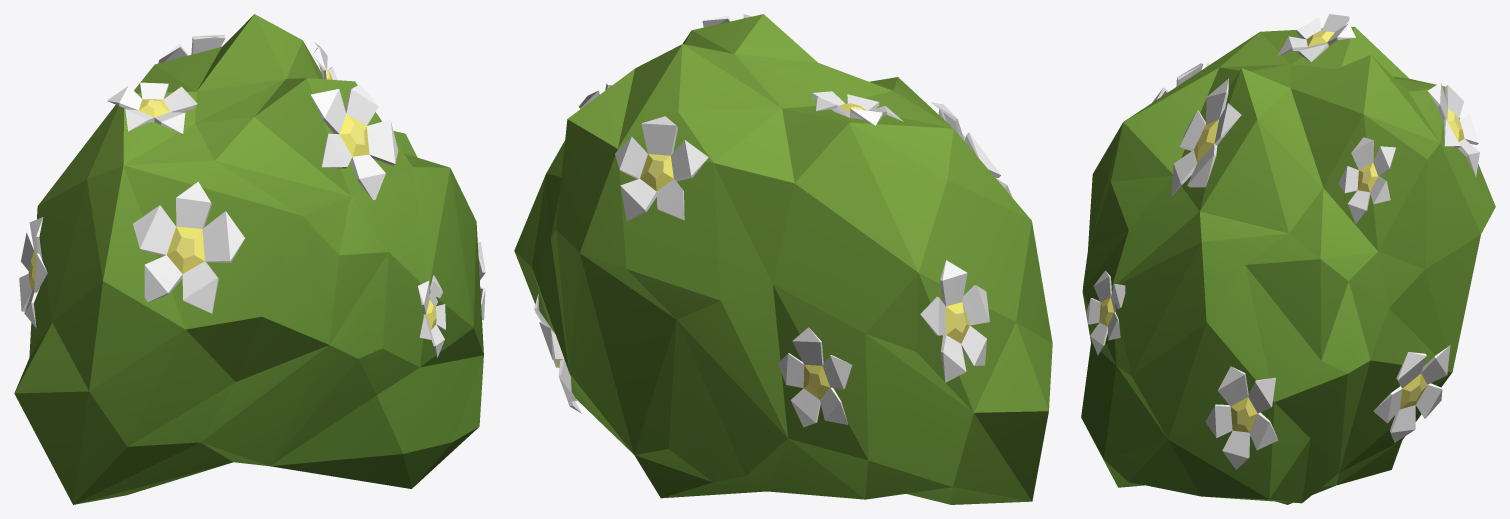
Rendered from wall1.fbx.
3 views of the same model, side by side, from view 1: azimuth 30°, elevation 25°; view 2: azimuth 150°, elevation 25°; view 3: azimuth 270°, elevation 25° (orthographic). The views are drawn at different scales.
Visible parts, largest first — view 1: Bush_big_flowers; view 2: Bush_big_flowers; view 3: Bush_big_flowers.
Boxes of the visible parts, box(x1,y1,x2,y2) form: Bush_big_flowers: box(14, 14, 485, 504); Bush_big_flowers: box(514, 14, 1052, 504); Bush_big_flowers: box(1081, 14, 1495, 504).
Size of the model in its own units: 35.83 by 31.48 by 27.17.
1 material, 1 textured.
